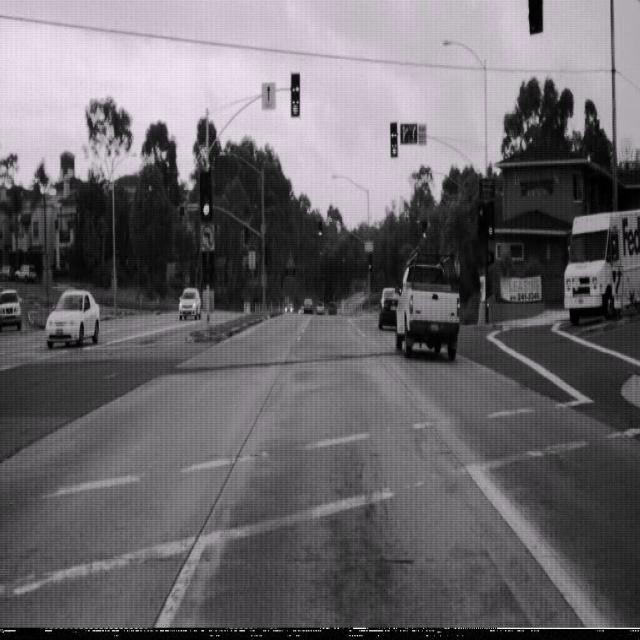noLeftTurn: (199, 223, 215, 251)
